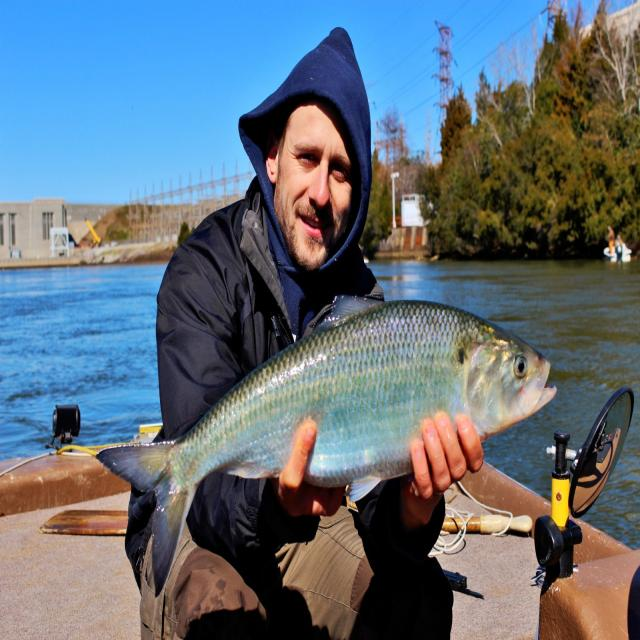Shad - American: (98, 298, 555, 594)
